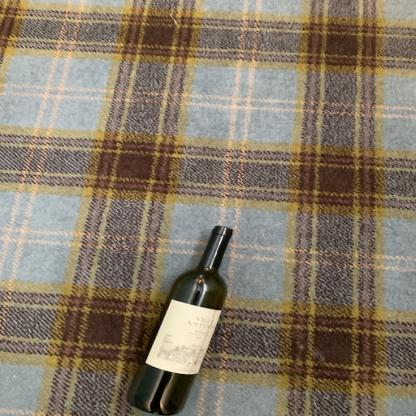trash: (122, 224, 237, 416)
